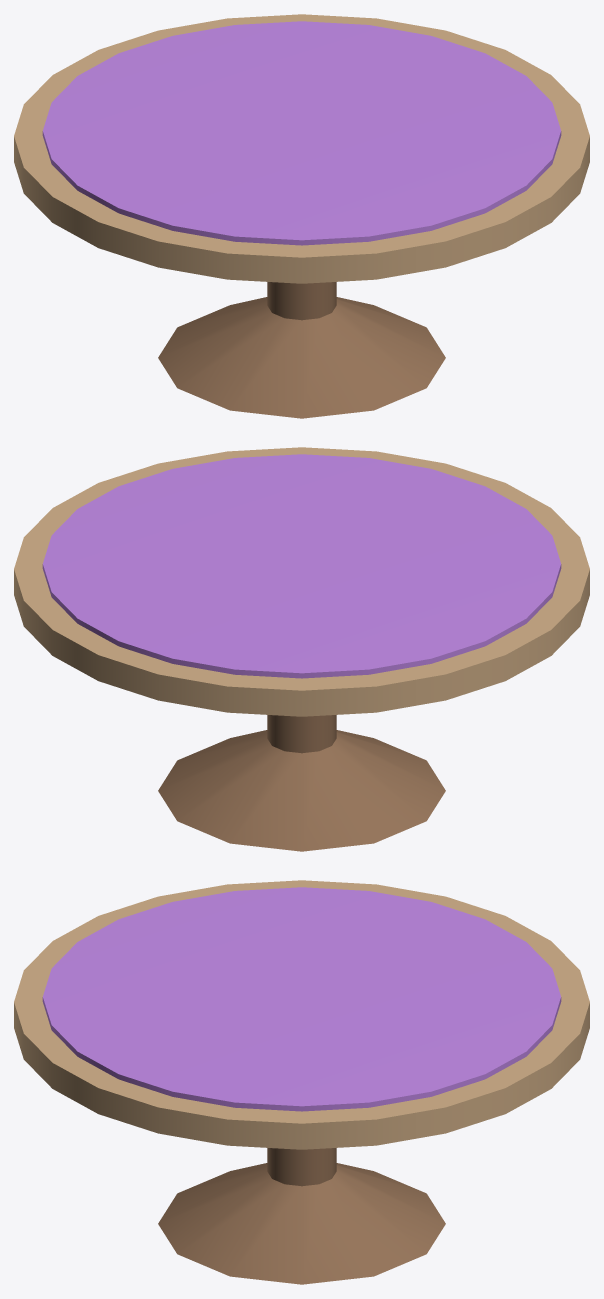
The model's file is Table_Round.fbx.
3 renders of one model, top to bottom at view 1: azimuth 30°, elevation 25°; view 2: azimuth 150°, elevation 25°; view 3: azimuth 270°, elevation 25°, orthographic.
Parts seen in each view (by area): view 1: Table_Round; view 2: Table_Round; view 3: Table_Round.
Boxes of the visible parts, box(x1,y1,x2,y2) form: Table_Round: box(14, 14, 589, 418); Table_Round: box(14, 447, 589, 851); Table_Round: box(14, 880, 589, 1284).
Size of the model in its own units: 2 by 0.88 by 2.
